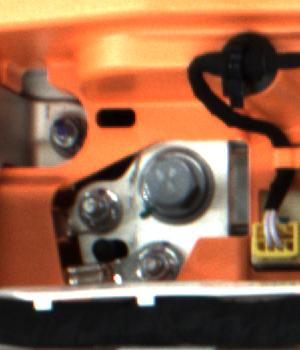nut_b: (136, 147, 218, 224)
